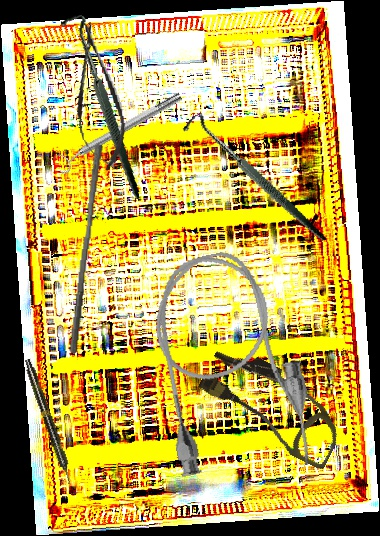Cannula: (138, 240, 322, 492), (189, 339, 356, 471)
Fixation Ring: (51, 87, 187, 176)
Handpiece: (21, 357, 76, 486)
Hook Surgical: (179, 88, 327, 272), (35, 12, 166, 200)
Micro Scissor: (63, 18, 132, 174)
Pusher: (69, 144, 104, 354)
